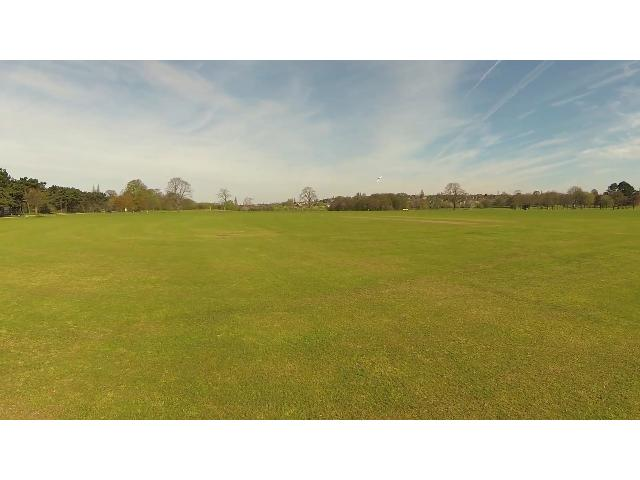Anti-Drone: (373, 175, 391, 185)
